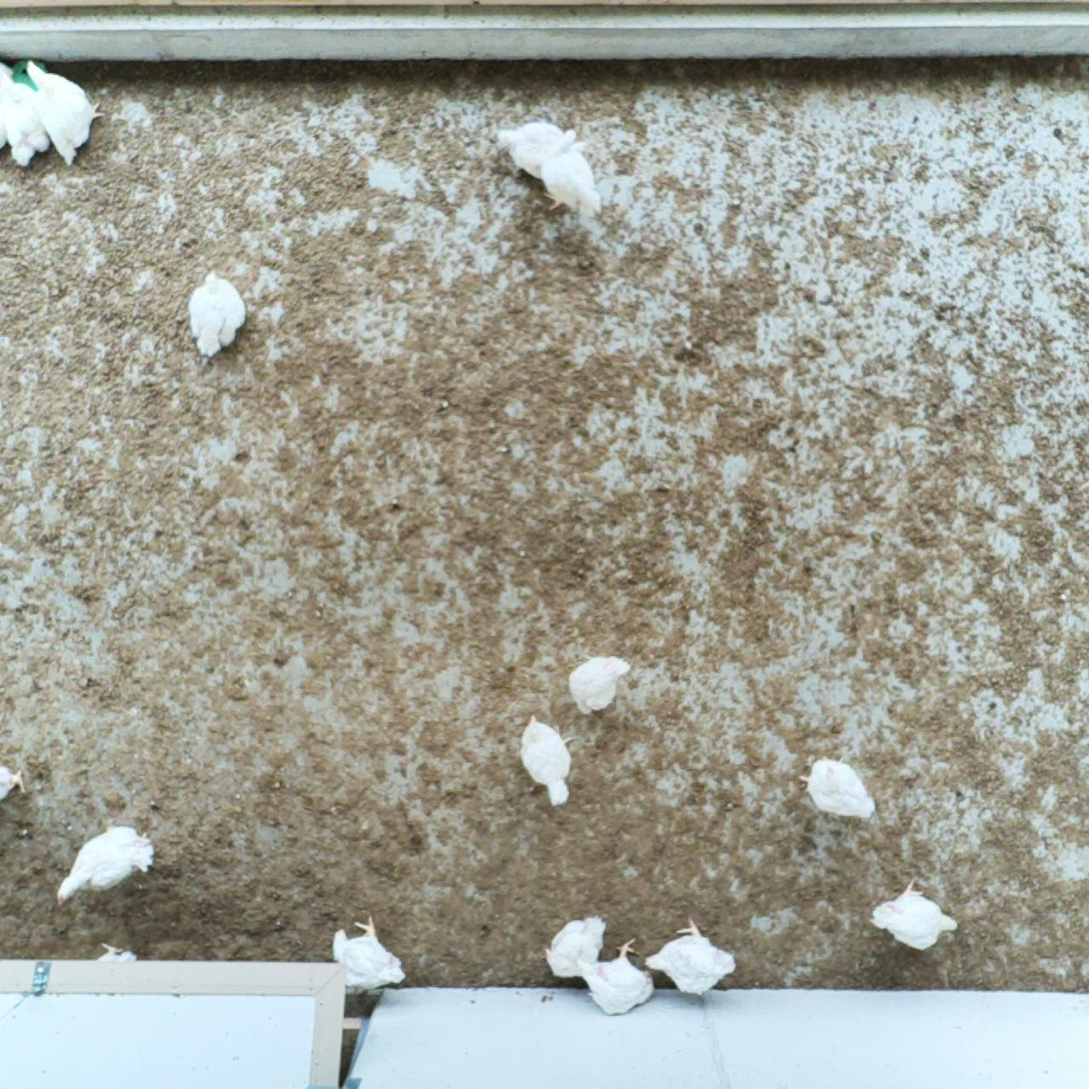chicken: (24, 56, 104, 170), (53, 822, 154, 905), (642, 917, 738, 998), (321, 915, 411, 1000), (868, 877, 960, 954), (574, 937, 652, 1019), (529, 135, 606, 218), (186, 269, 251, 360), (488, 119, 578, 182), (799, 754, 879, 823), (518, 711, 574, 807), (540, 912, 609, 982), (0, 81, 54, 170), (568, 652, 631, 715), (84, 940, 146, 997), (0, 760, 26, 807)
